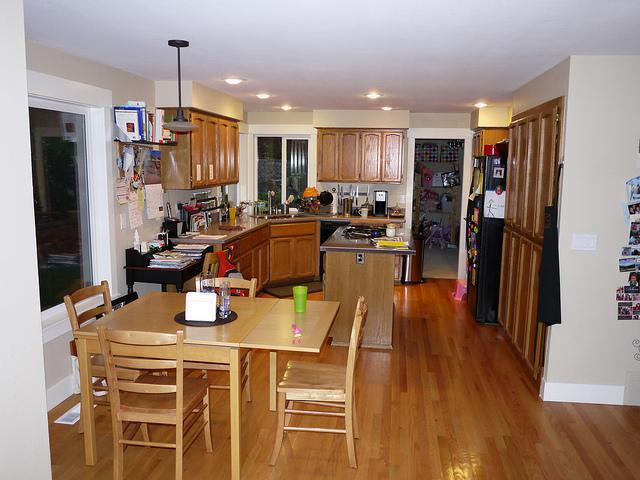Lavaplatos: (245, 186, 310, 223)
